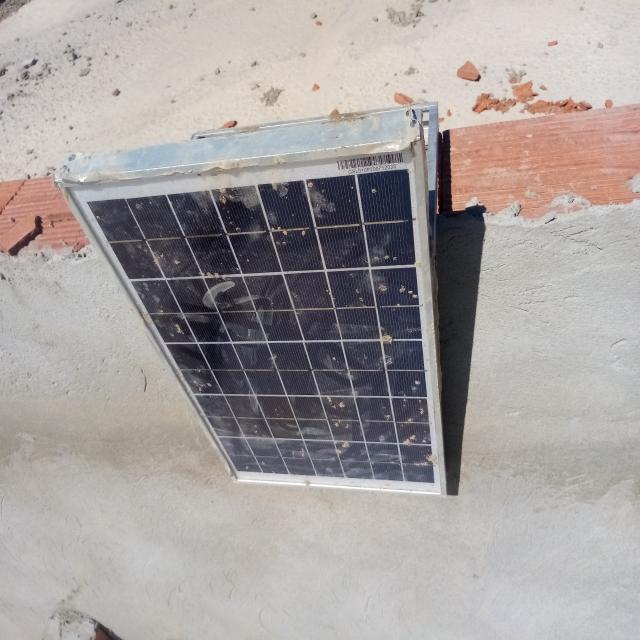faulty: (60, 148, 445, 498)
